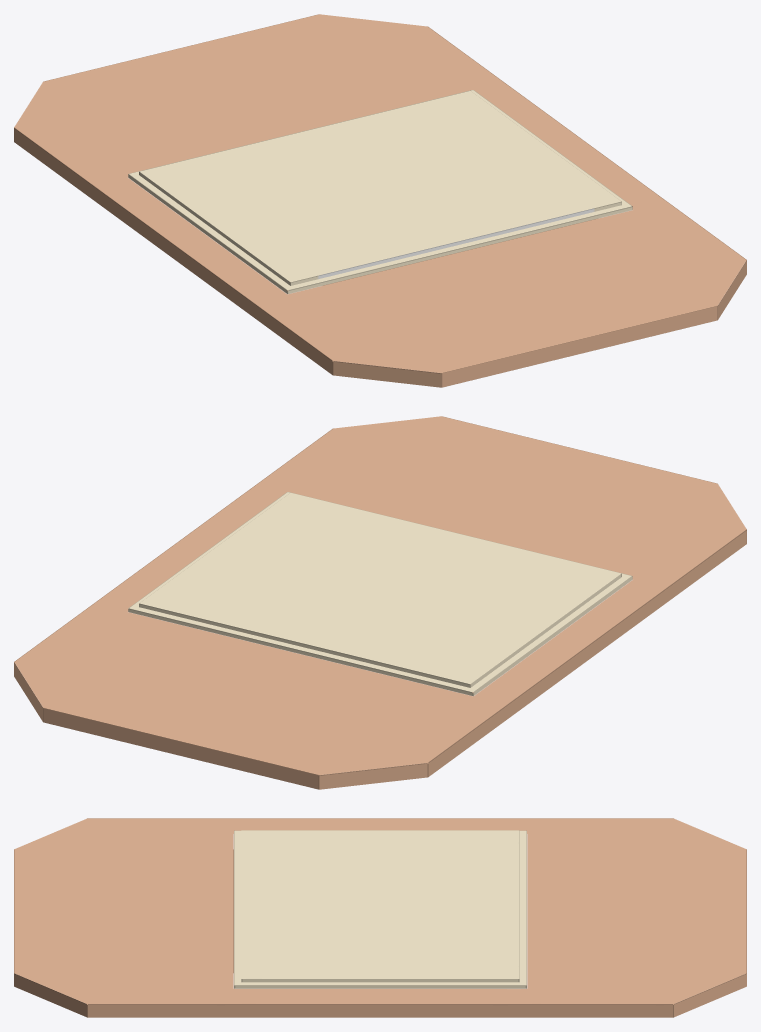
The model's file is Bandages.fbx.
3 renders of one model, top to bottom at view 1: azimuth 30°, elevation 25°; view 2: azimuth 150°, elevation 25°; view 3: azimuth 270°, elevation 25°, orthographic. The views are drawn at different scales.
Visible parts, largest first — view 1: cuboid; view 2: cuboid; view 3: cuboid.
Boxes of the visible parts, x1,y1,x2,y2 form: cuboid: (14, 14, 746, 387); cuboid: (14, 416, 746, 789); cuboid: (14, 818, 746, 1017).
Size of the model in its own units: 37.5 by 1.88 by 62.5.
1 material, 1 textured.
